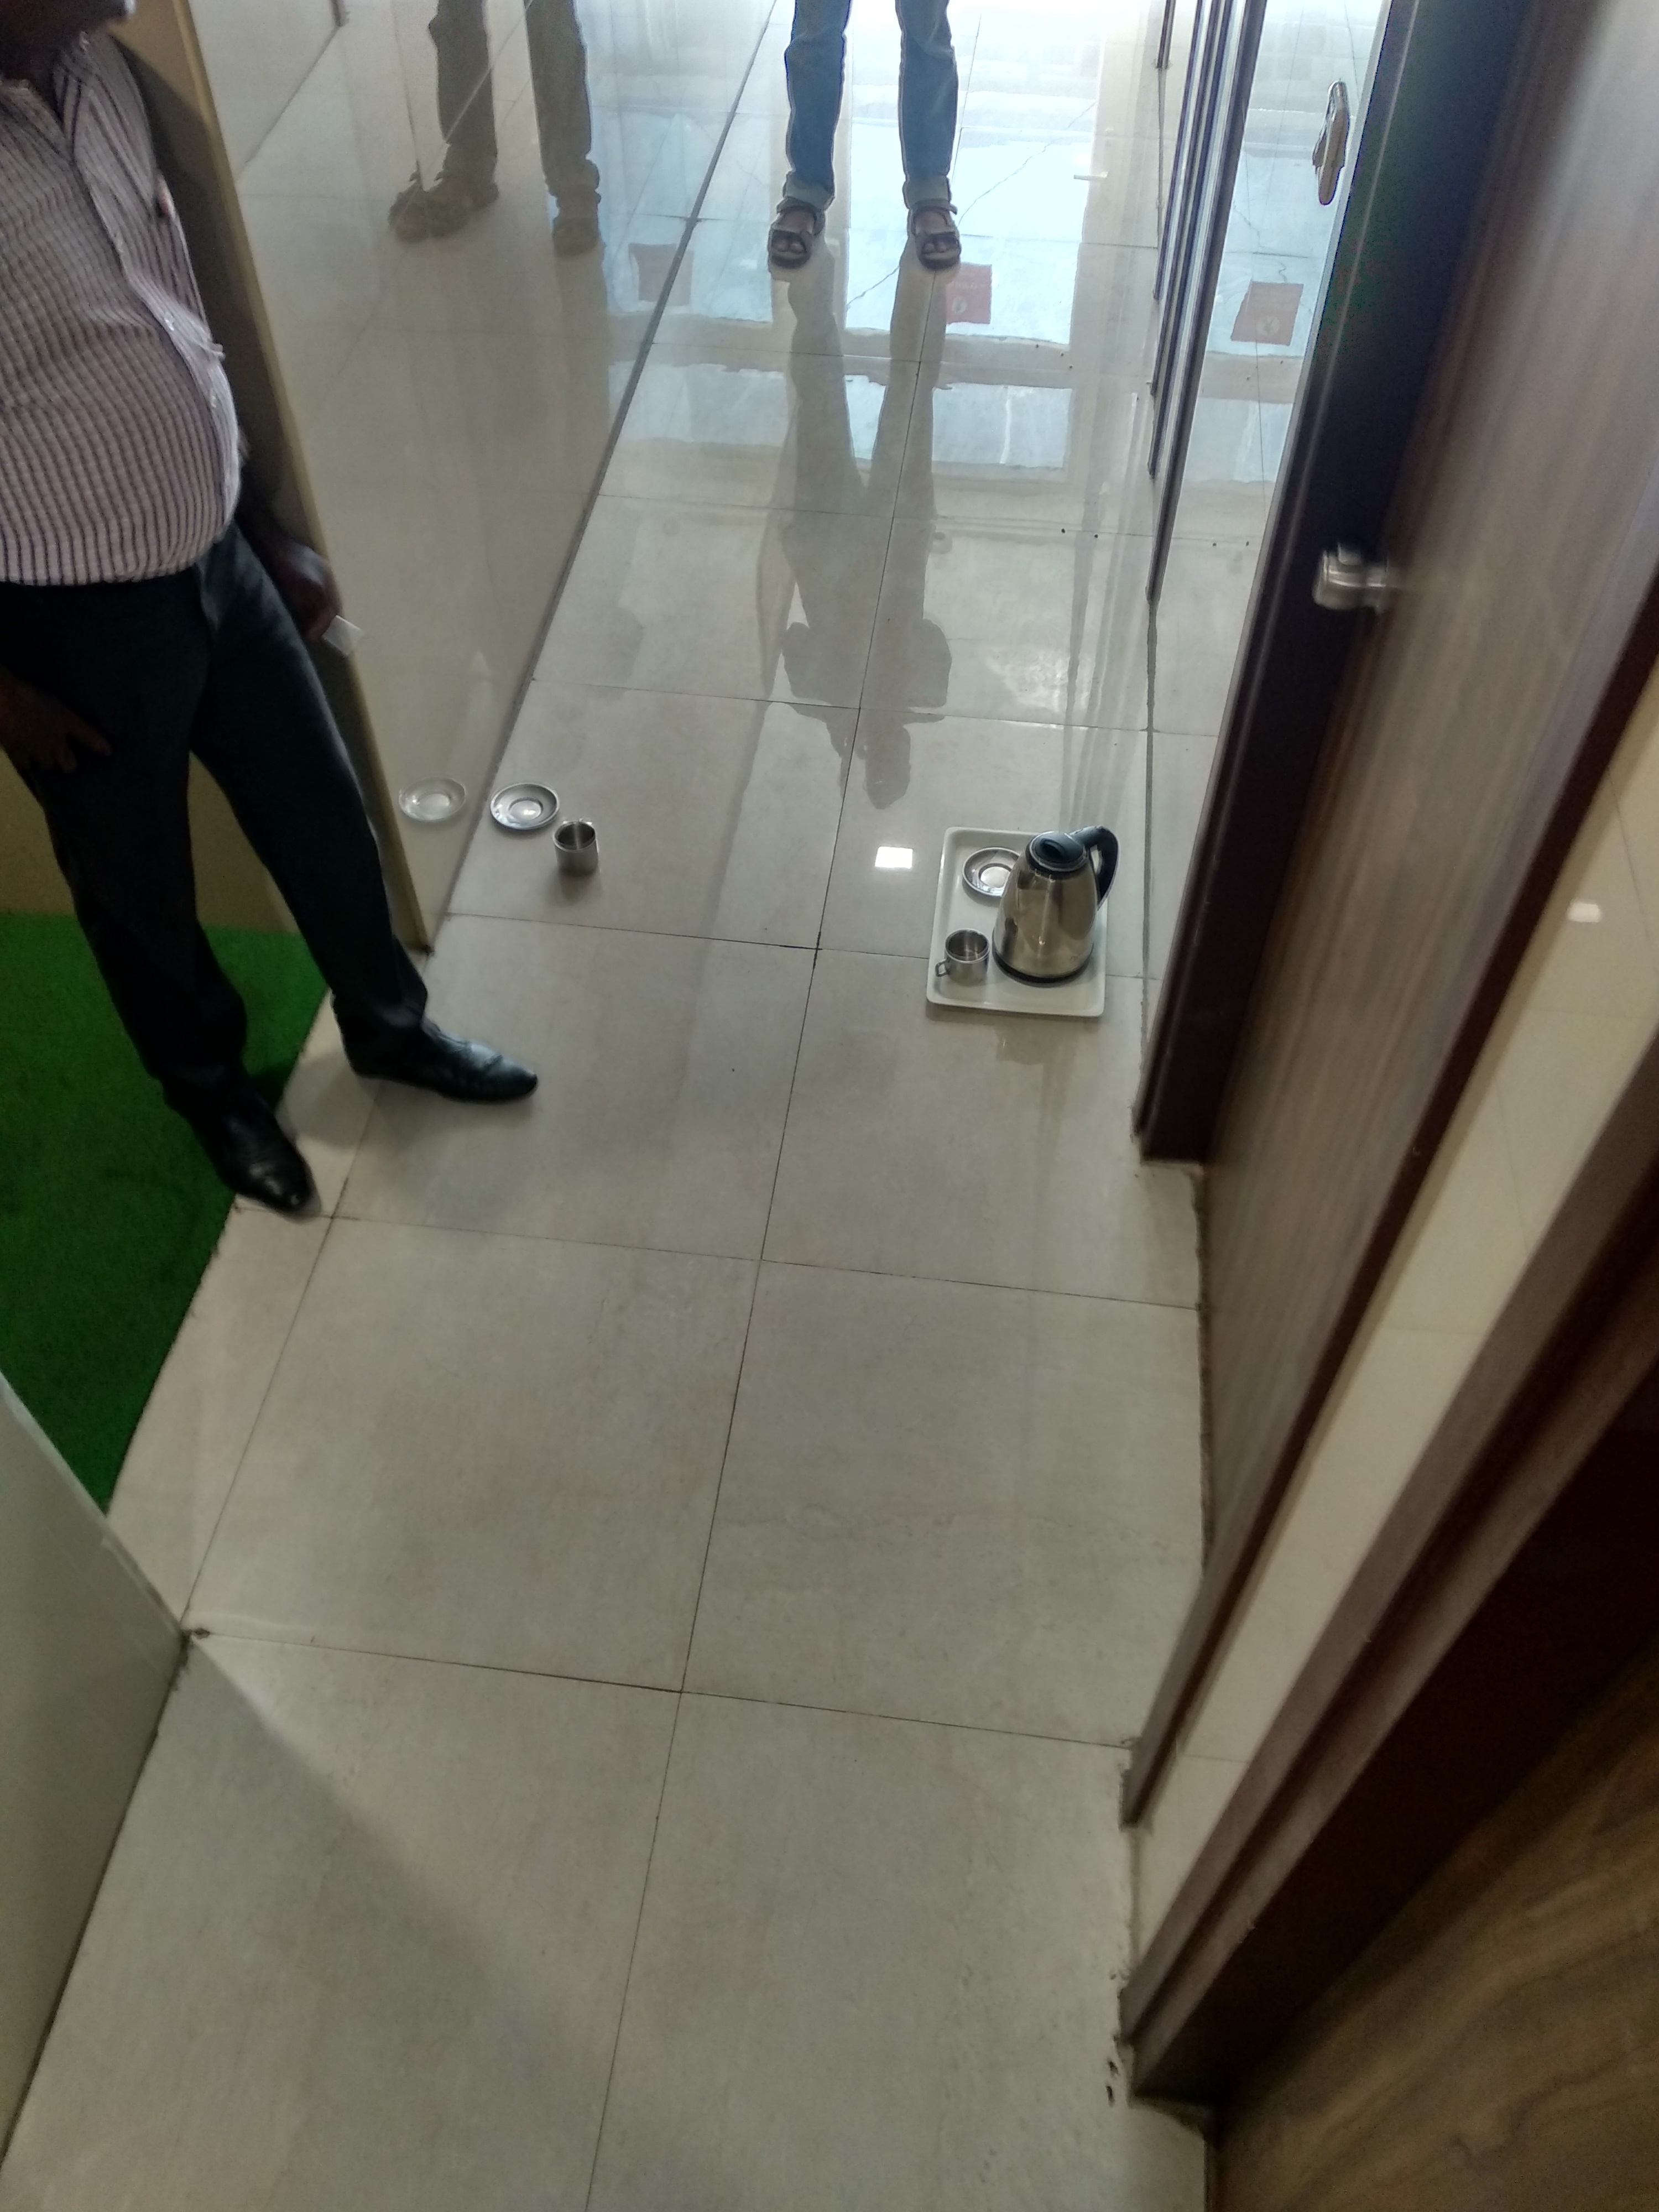CUP: (929, 930, 995, 986), (547, 820, 599, 883)
FLASK: (1009, 833, 1119, 975)
